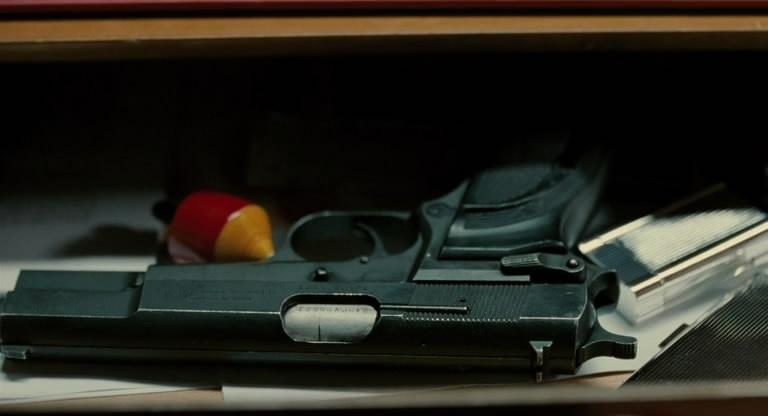gun: (9, 136, 667, 398)
